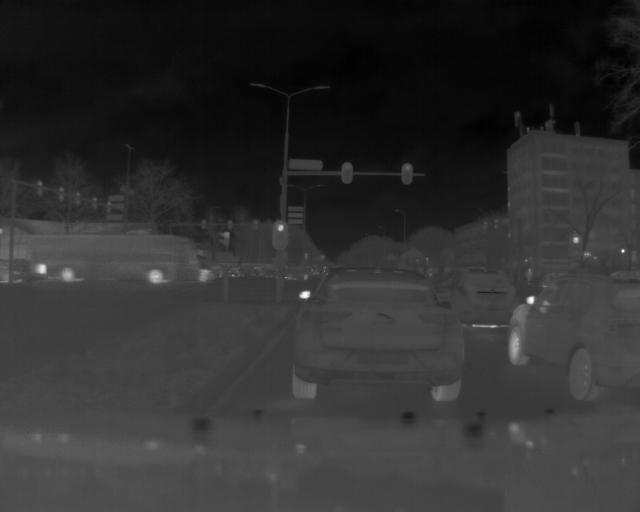car: (294, 267, 464, 403), (508, 273, 640, 404), (28, 232, 199, 283)
